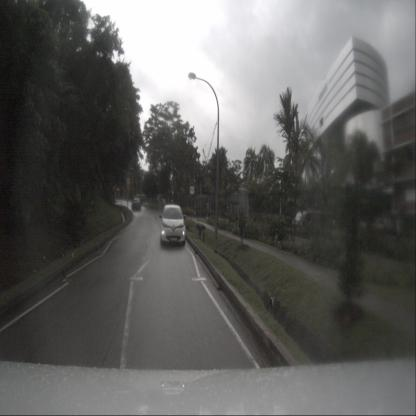vehicle-bus-rigid: (134, 194, 147, 202)
vehicle-car: (290, 211, 335, 240), (160, 204, 186, 245), (131, 199, 141, 210)
